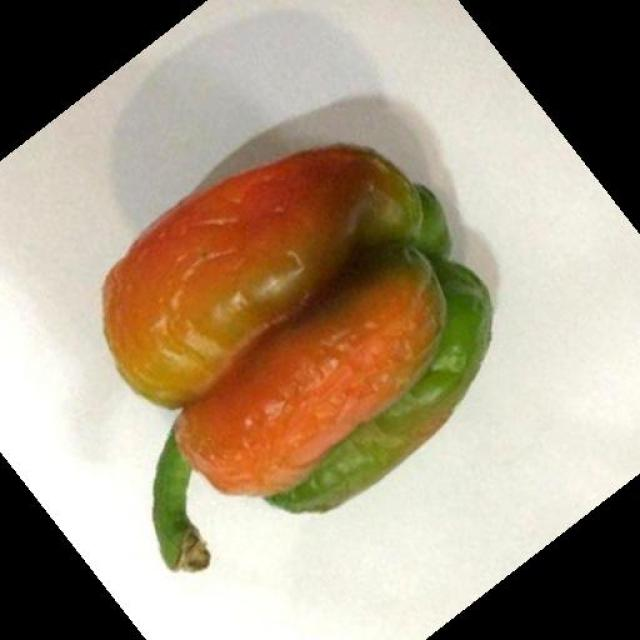Stale_Capsicum: (88, 130, 456, 438)
